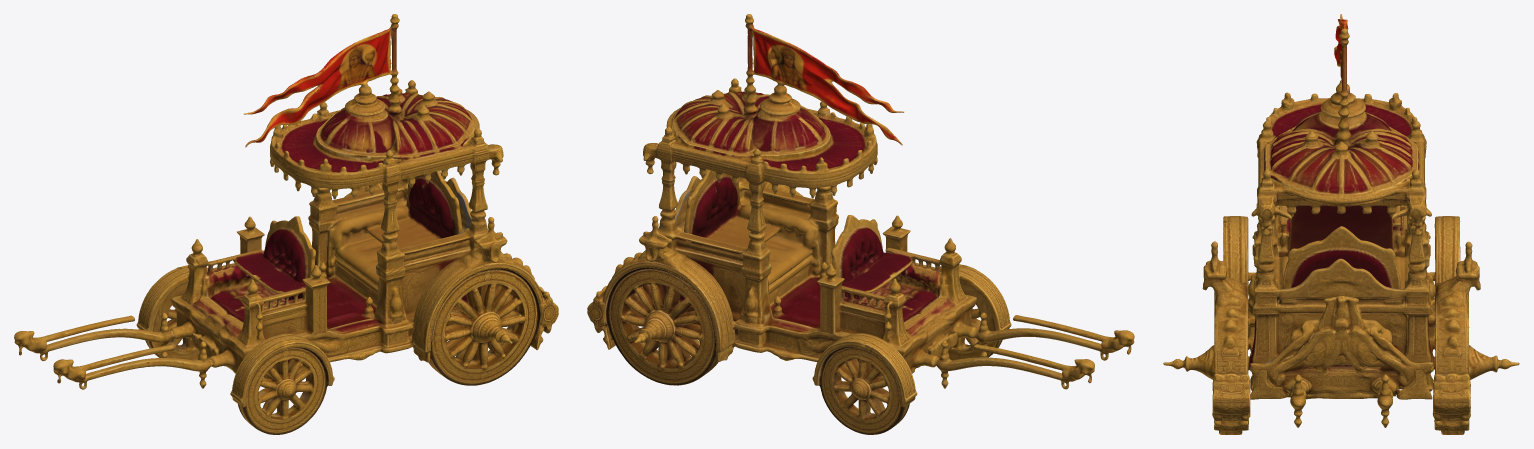
File: Chariot.glb
3 views of the same model, side by side, from view 1: azimuth 30°, elevation 25°; view 2: azimuth 150°, elevation 25°; view 3: azimuth 270°, elevation 25° (orthographic). The views are drawn at different scales.
Bounding box in the file's own units: 1.9 × 1.33 × 1.11.
1 material, 1 textured.
